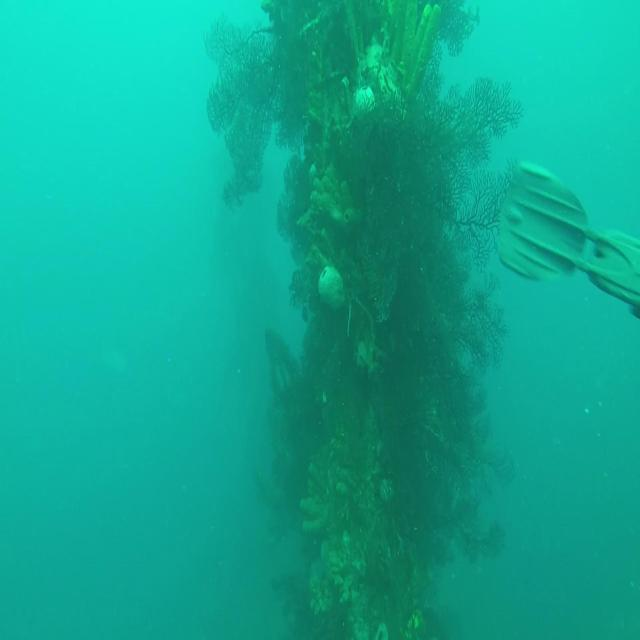human: (496, 157, 639, 321)
